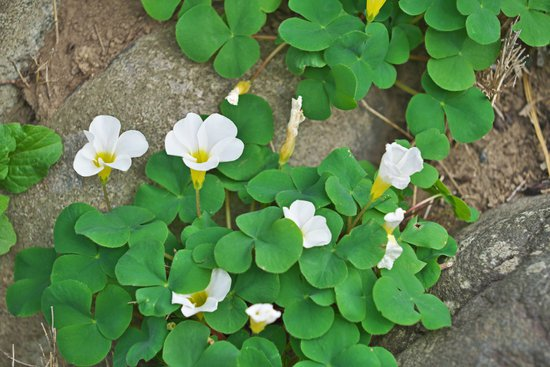oxalis: (8, 143, 467, 367), (150, 6, 533, 147)
